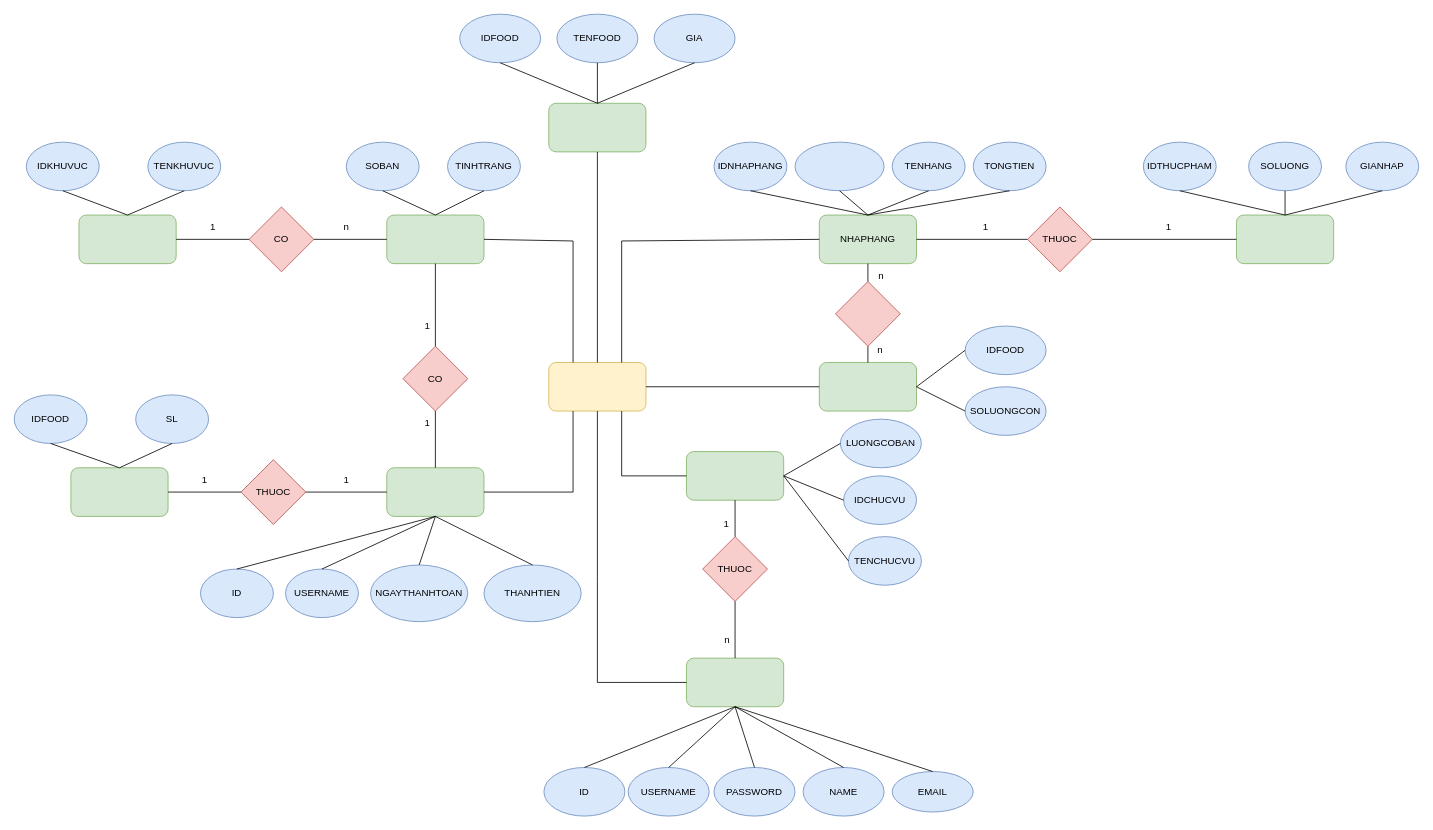
This 1433x830 diagram has some shape labels left out. The shapes that lost their labels are listed below. From the top down, each one's centre as x and y in pixels, then its label:
At (597,127): "FOOD".
At (839,166): "NGAYNHAPHANG".
At (127,239): "KHUVUC".
At (435,239): "BAN".
At (1285,239): "CTNHAPHANG".
At (867,313): "VAO".
At (597,386): "COFFEESHOP".
At (868,386): "KHO".
At (119,491): "CTHD".
At (435,491): "HOADON".
At (735,475): "CHUCVU".
At (735,682): "ACCOUNT".
